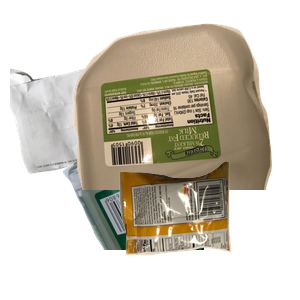glass: (60, 120, 300, 300)
paper: (10, 39, 236, 205)
plastic: (71, 21, 300, 201)
trash: (117, 159, 300, 300)
